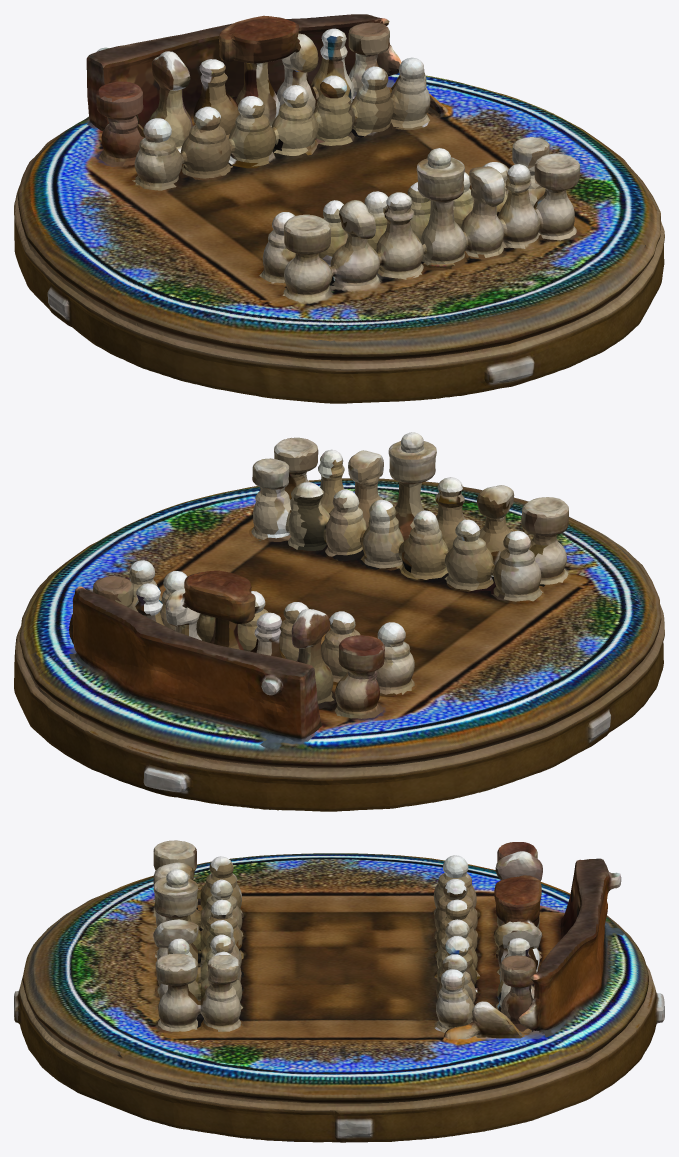
Rendered from chess_01.glb.
3 renders of one model, top to bottom at view 1: azimuth 30°, elevation 25°; view 2: azimuth 150°, elevation 25°; view 3: azimuth 270°, elevation 25°, orthographic. The views are drawn at different scales.
Parts seen in each view (by area): view 1: tmp1ofnesxz.ply; view 2: tmp1ofnesxz.ply; view 3: tmp1ofnesxz.ply.
Boxes of the visible parts, <box> form: tmp1ofnesxz.ply: <box>14,14,664,403</box>; tmp1ofnesxz.ply: <box>14,432,664,811</box>; tmp1ofnesxz.ply: <box>14,840,664,1142</box>.
Size of the model in its own units: 1.7 by 0.5127 by 1.9.
1 material, 1 textured.
